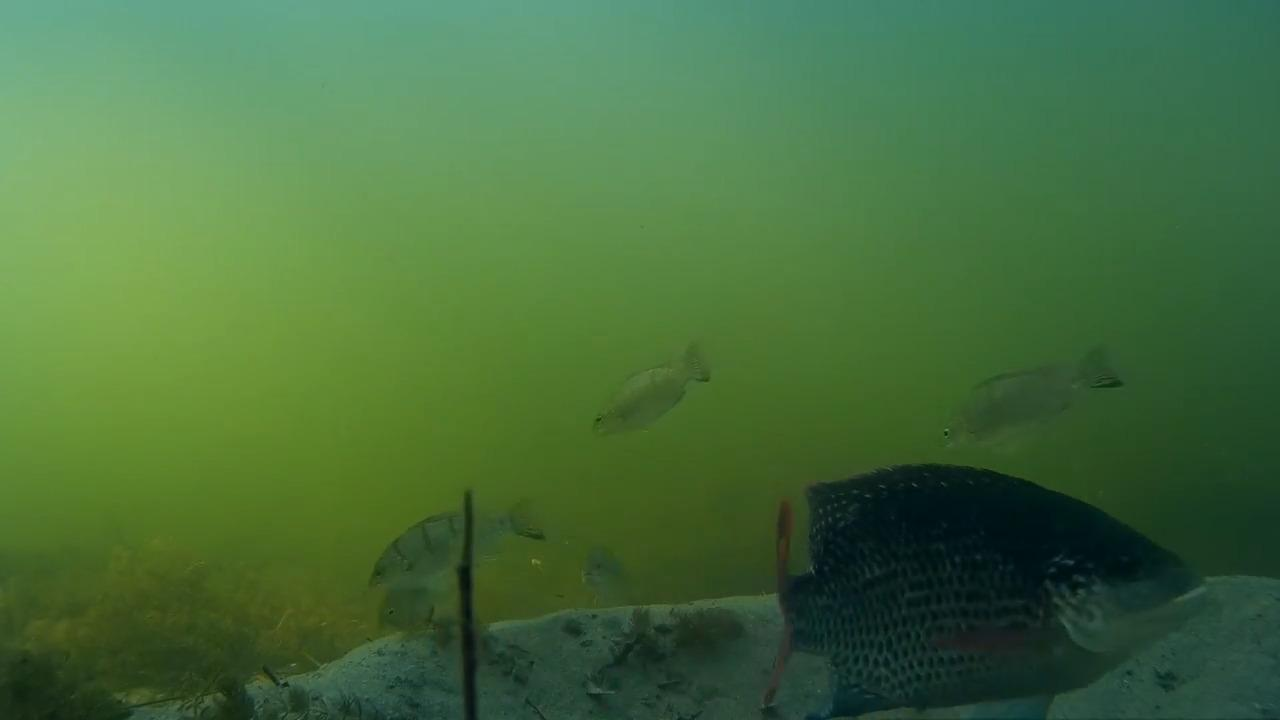Tilapia: (746, 458, 1211, 720), (937, 342, 1122, 438), (367, 494, 550, 584), (589, 336, 718, 444), (576, 538, 647, 600)
